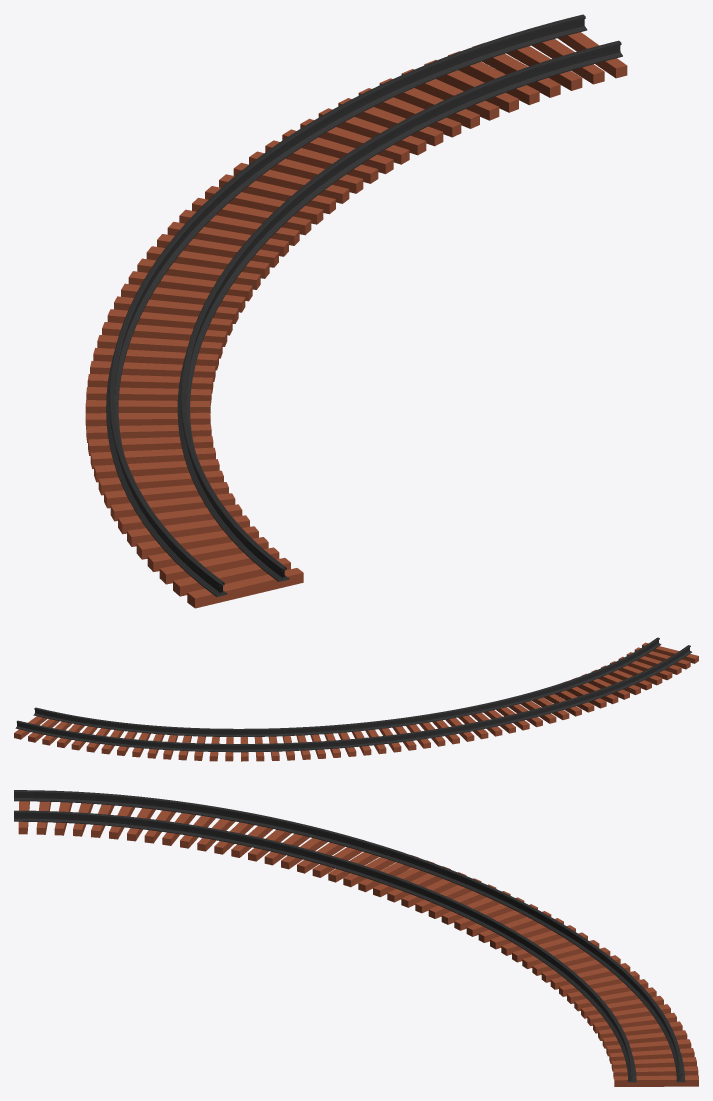
The picture shows the model from 3 angles, top to bottom: view 1: azimuth 30°, elevation 25°; view 2: azimuth 150°, elevation 25°; view 3: azimuth 270°, elevation 25°; orthographic projection. The views are drawn at different scales.
Parts seen in each view (by area): view 1: Curve; view 2: Curve; view 3: Curve.
Part boxes in pixels (left/top/right/bottom): Curve: left=85, top=14, right=627, bottom=608; Curve: left=14, top=637, right=698, bottom=761; Curve: left=14, top=790, right=698, bottom=1086.
Size of what is drawn, in the model's own units: 2138 by 53.38 by 2132.
1 material, 1 textured.
